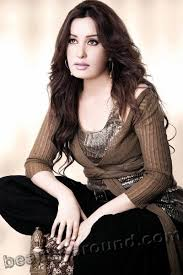middle_eastern_Female: (63, 18, 119, 76)
